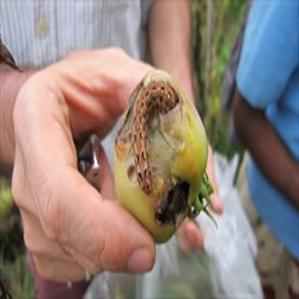Cotton bollworm: (110, 72, 199, 201)
